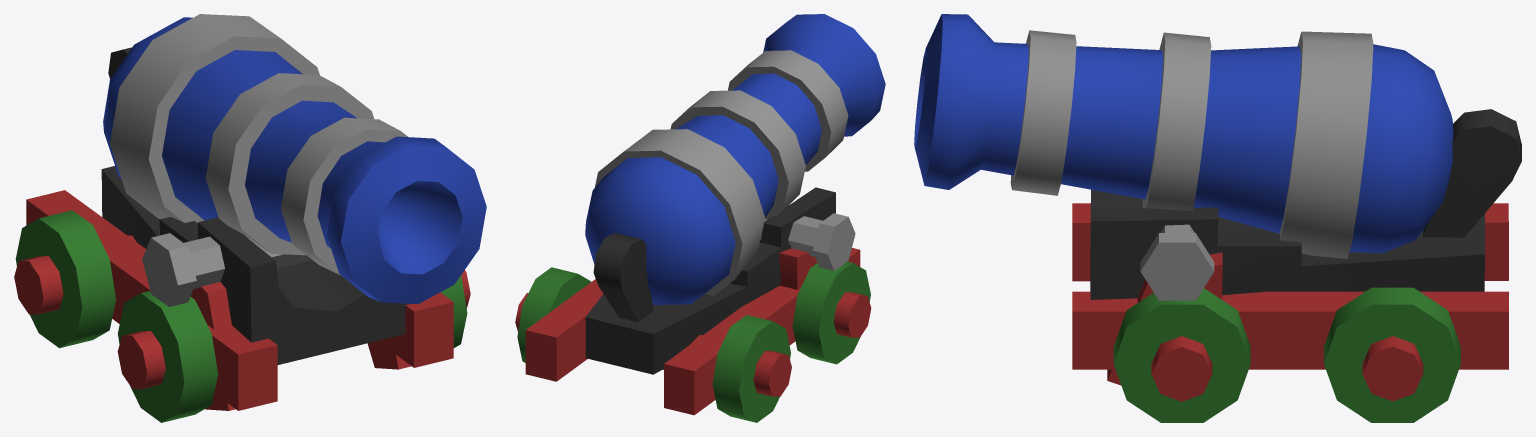
File: Cannon_03_mm.fbx
The picture shows the model from 3 angles, left to right: view 1: azimuth 30°, elevation 25°; view 2: azimuth 150°, elevation 25°; view 3: azimuth 270°, elevation 25°; orthographic projection. The views are drawn at different scales.
Parts seen in each view (by area): view 1: Cannon_03; view 2: Cannon_03; view 3: Cannon_03.
Part boxes in pixels (x1,y1,x2,y2): Cannon_03: (14, 14, 486, 422); Cannon_03: (515, 14, 885, 422); Cannon_03: (914, 14, 1521, 422).
Bounding box in the file's own units: 105 × 98.69 × 165.
